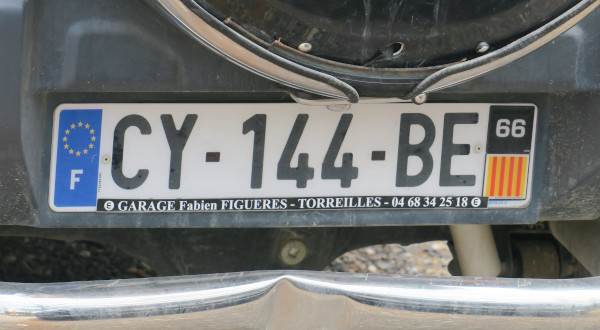license_plate: (48, 103, 537, 209)
